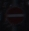No entry: (5, 5, 24, 26)
